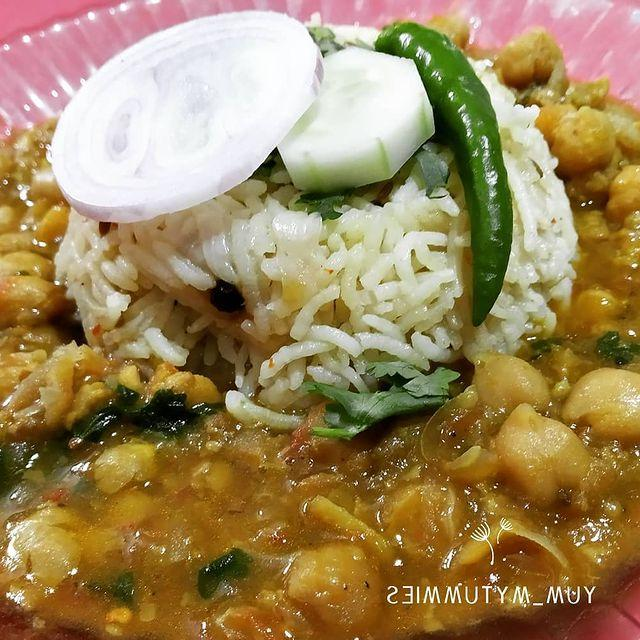Chole: (110, 342, 640, 584)
